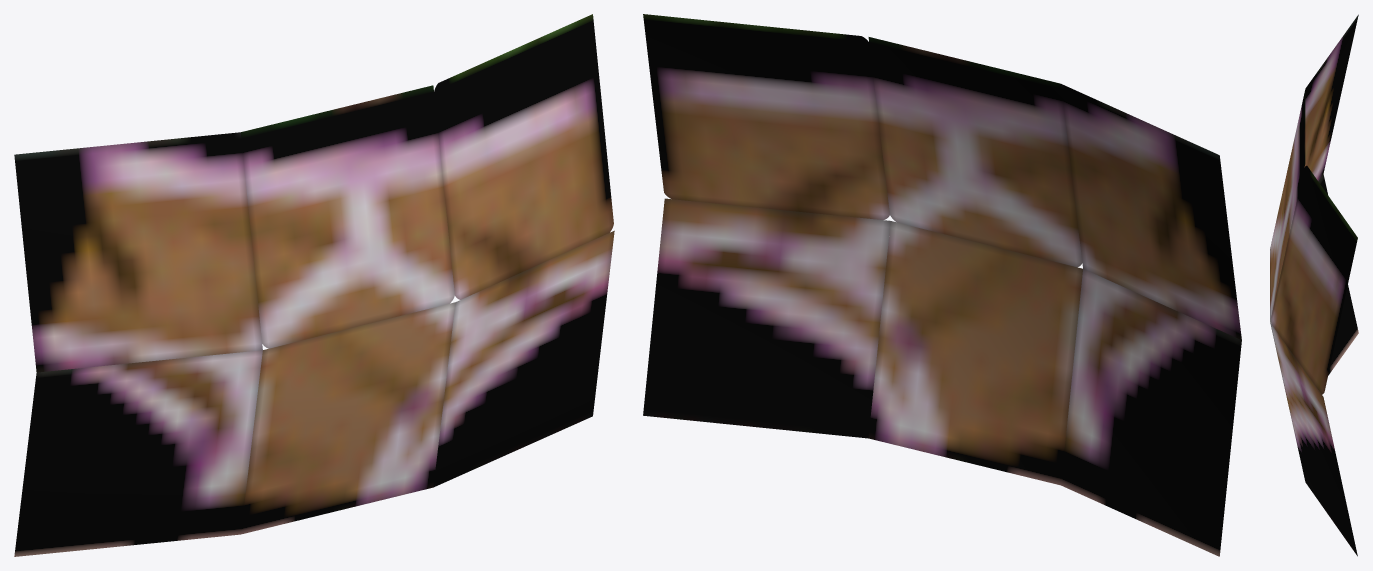
3 views of the same model, side by side, from view 1: azimuth 30°, elevation 25°; view 2: azimuth 150°, elevation 25°; view 3: azimuth 270°, elevation 25° (orthographic). The views are drawn at different scales.
Parts seen in each view (by area): view 1: T1L2M008_38; view 2: T1L2M008_38; view 3: T1L2M008_38.
Part boxes in pixels (left/top/right/bottom): T1L2M008_38: left=14, top=14, right=614, bottom=556; T1L2M008_38: left=643, top=14, right=1241, bottom=556; T1L2M008_38: left=1270, top=14, right=1358, bottom=556.
Size of the model in its own units: 0.6006 by 0.3994 by 0.1006.
Materials: 1 (1 with a texture image).
